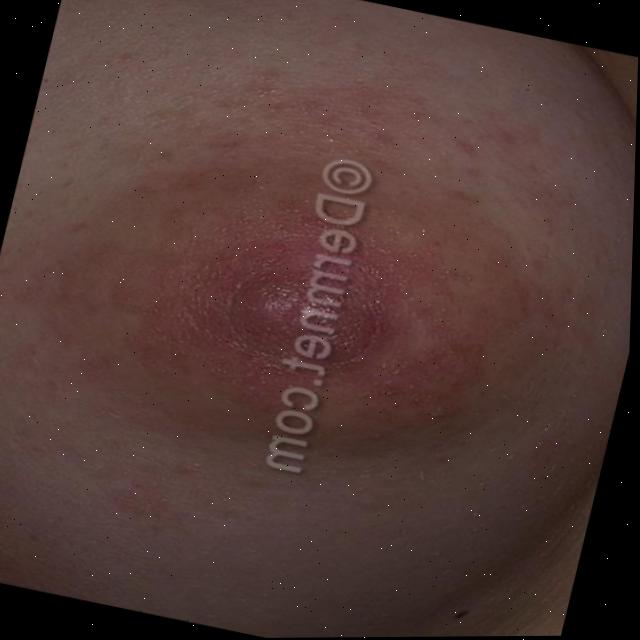Eczema: (0, 34, 618, 608)
